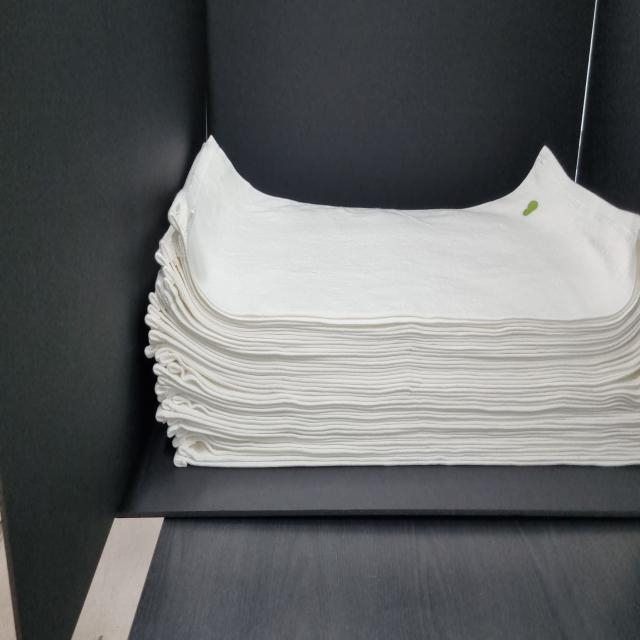not_50count_towel: (119, 122, 640, 482)
